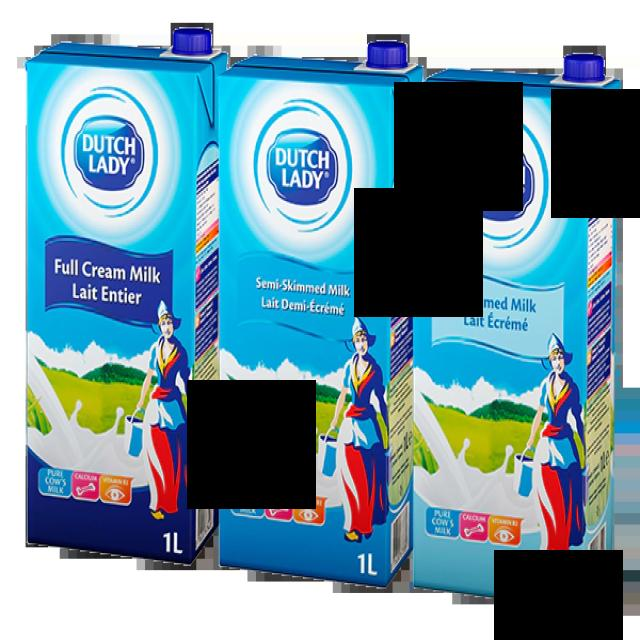milk: (406, 45, 630, 624), (16, 23, 237, 569), (216, 39, 422, 598)
